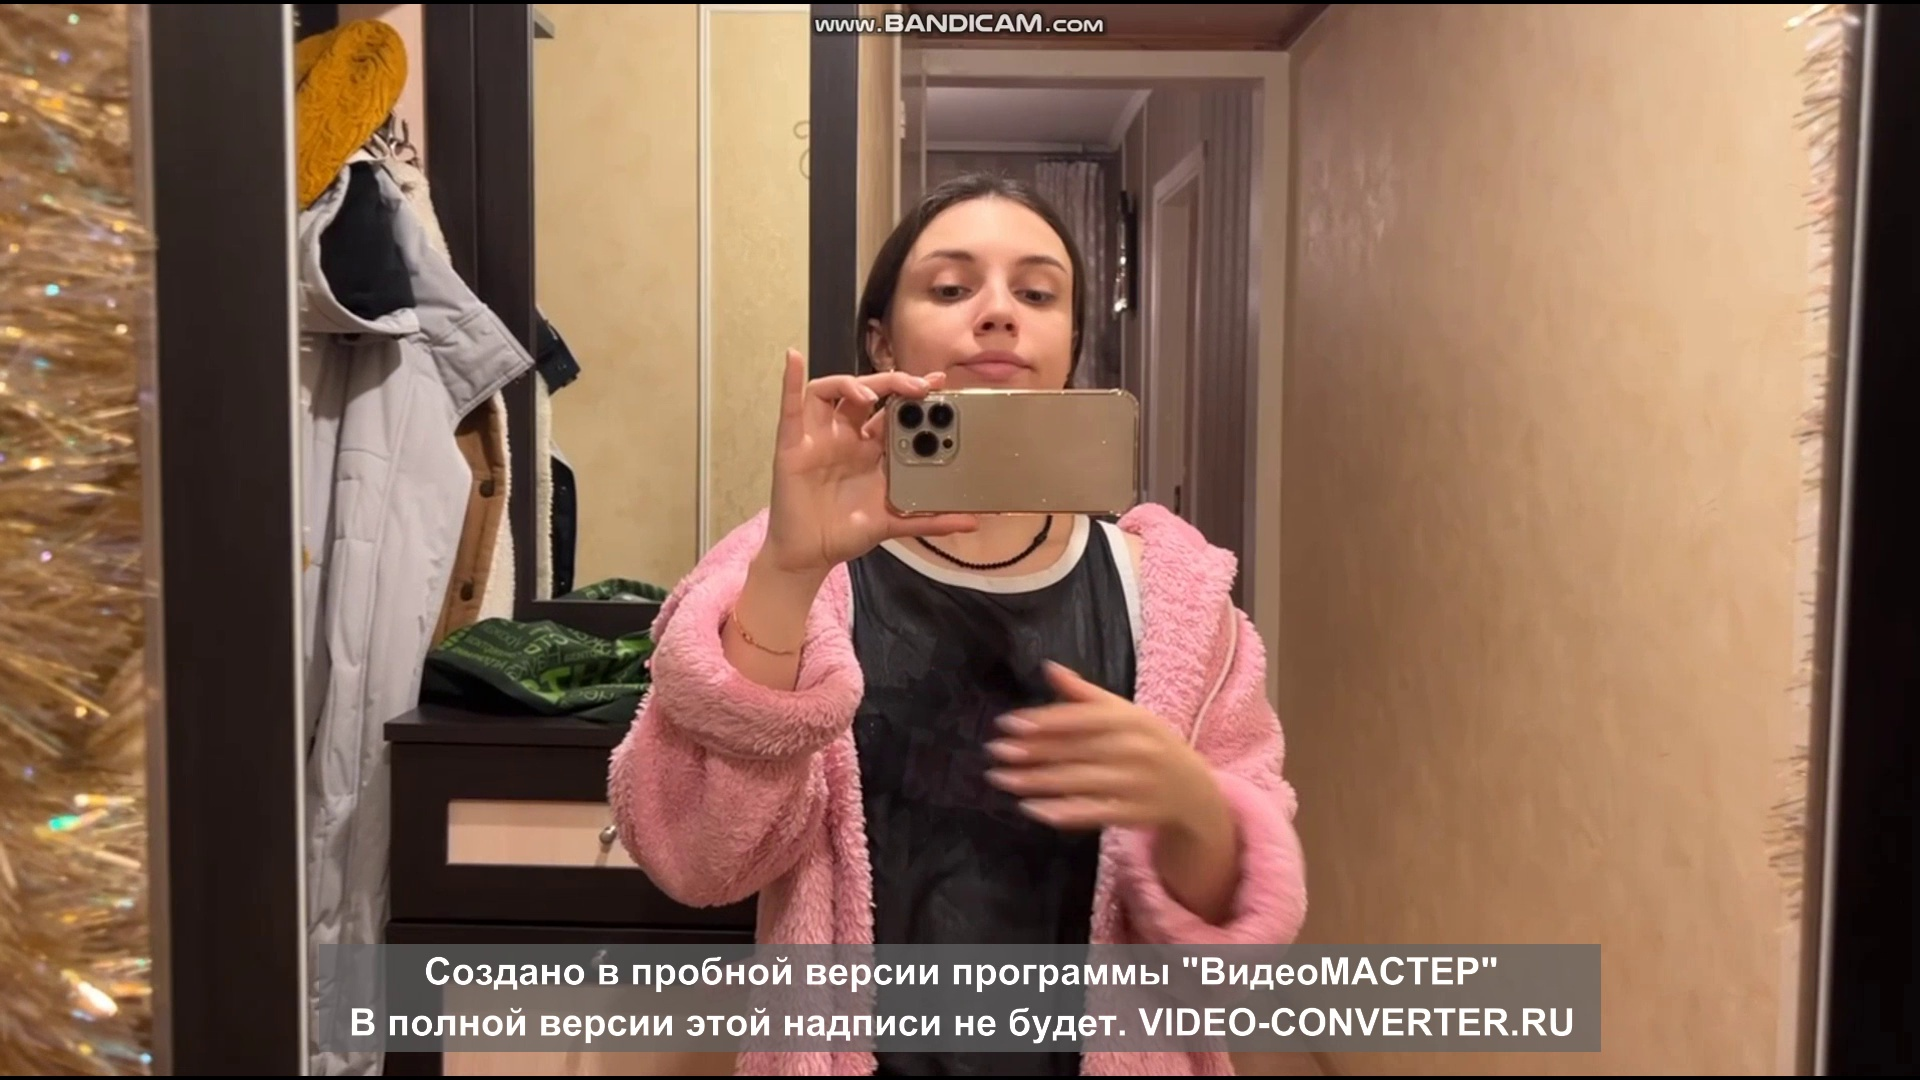Кисть: (984, 662, 1171, 828)
